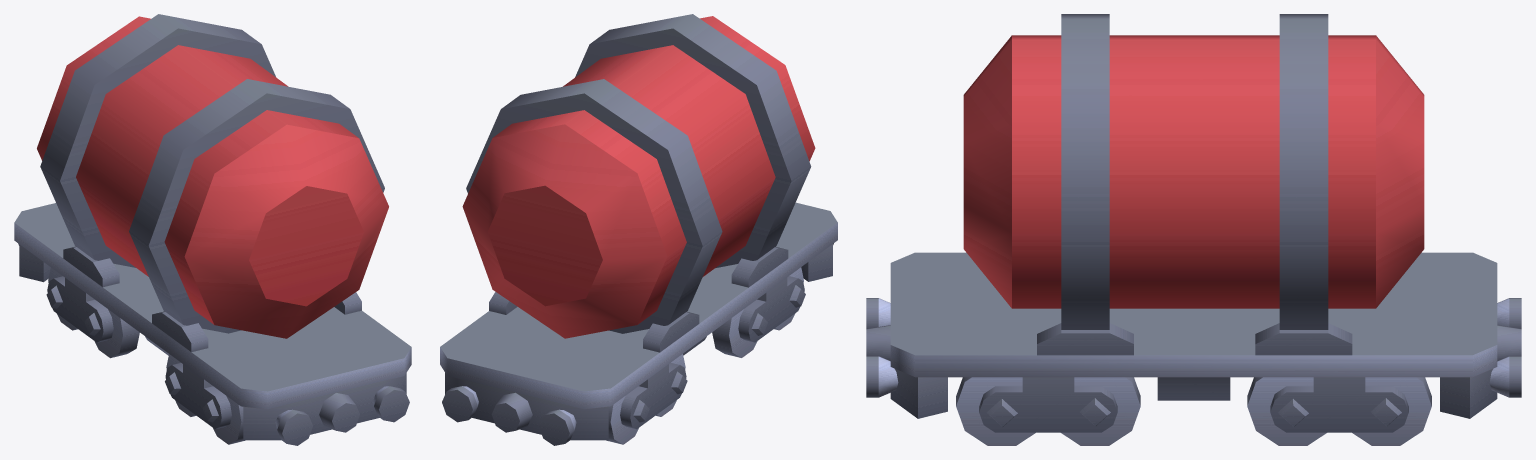
Rendered from train-carriage-tank.glb.
3 renders of one model, left to right at view 1: azimuth 30°, elevation 25°; view 2: azimuth 150°, elevation 25°; view 3: azimuth 270°, elevation 25°, orthographic. The views are drawn at different scales.
Parts seen in each view (by area): view 1: train-carriage-tank, wheels-back, wheels-front; view 2: train-carriage-tank, wheels-front, wheels-back; view 3: train-carriage-tank, wheels-front, wheels-back.
Part boxes in pixels (x1,y1,x2,y2): train-carriage-tank: [14, 14, 411, 445]; wheels-back: [46, 267, 139, 358]; wheels-front: [165, 354, 245, 444]; train-carriage-tank: [440, 14, 837, 445]; wheels-front: [712, 267, 805, 357]; wheels-back: [606, 354, 687, 444]; train-carriage-tank: [866, 14, 1521, 418]; wheels-front: [956, 377, 1140, 445]; wheels-back: [1247, 377, 1431, 445].
Bounding box in the file's own units: 1.39 × 1.75 × 2.7.
1 material, 1 textured.
